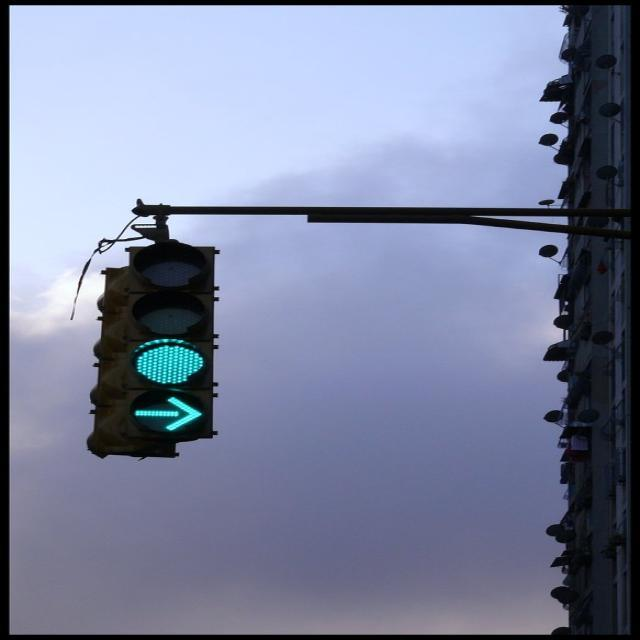traffic light: (119, 238, 221, 430)
